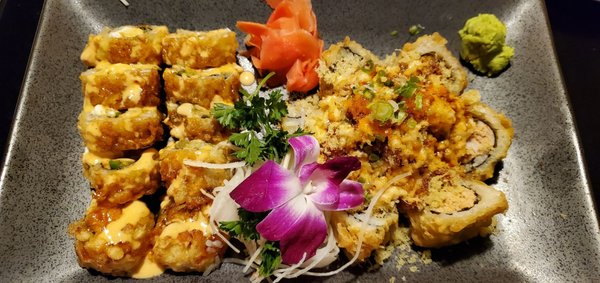sandwich: (47, 3, 525, 280)
